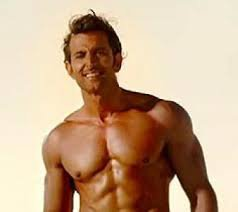noMask: (56, 11, 130, 97)
